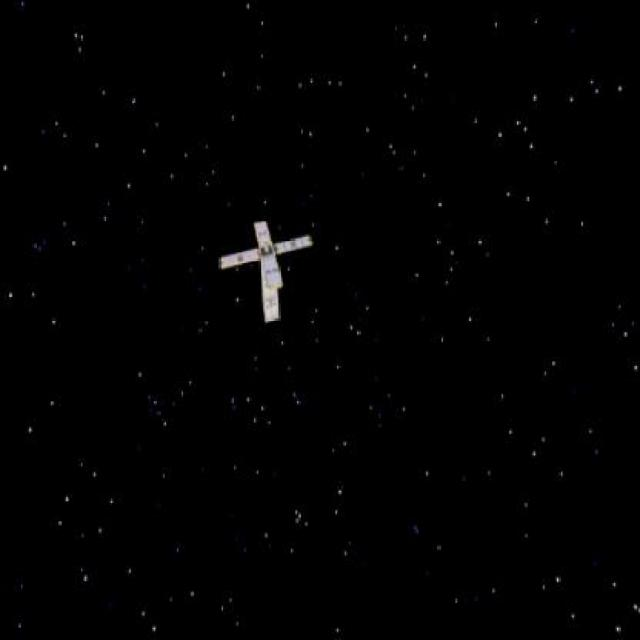satellite: (214, 200, 321, 329)
